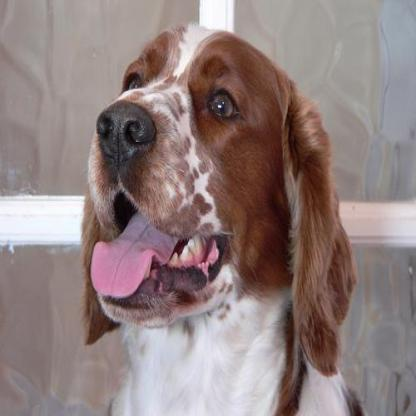Welsh_springer_spaniel: (82, 21, 361, 414)
